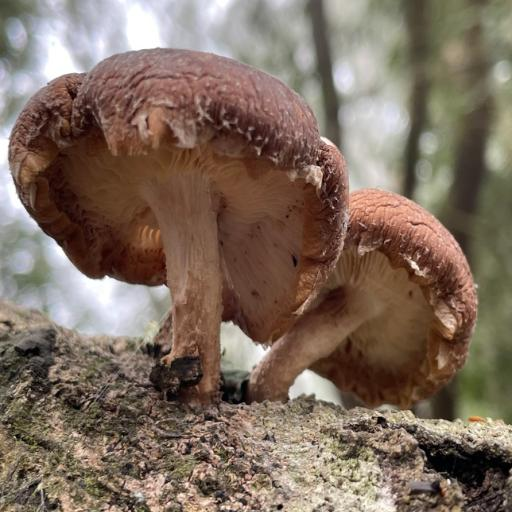Shiitake Mushroom: (0, 0, 512, 500)
